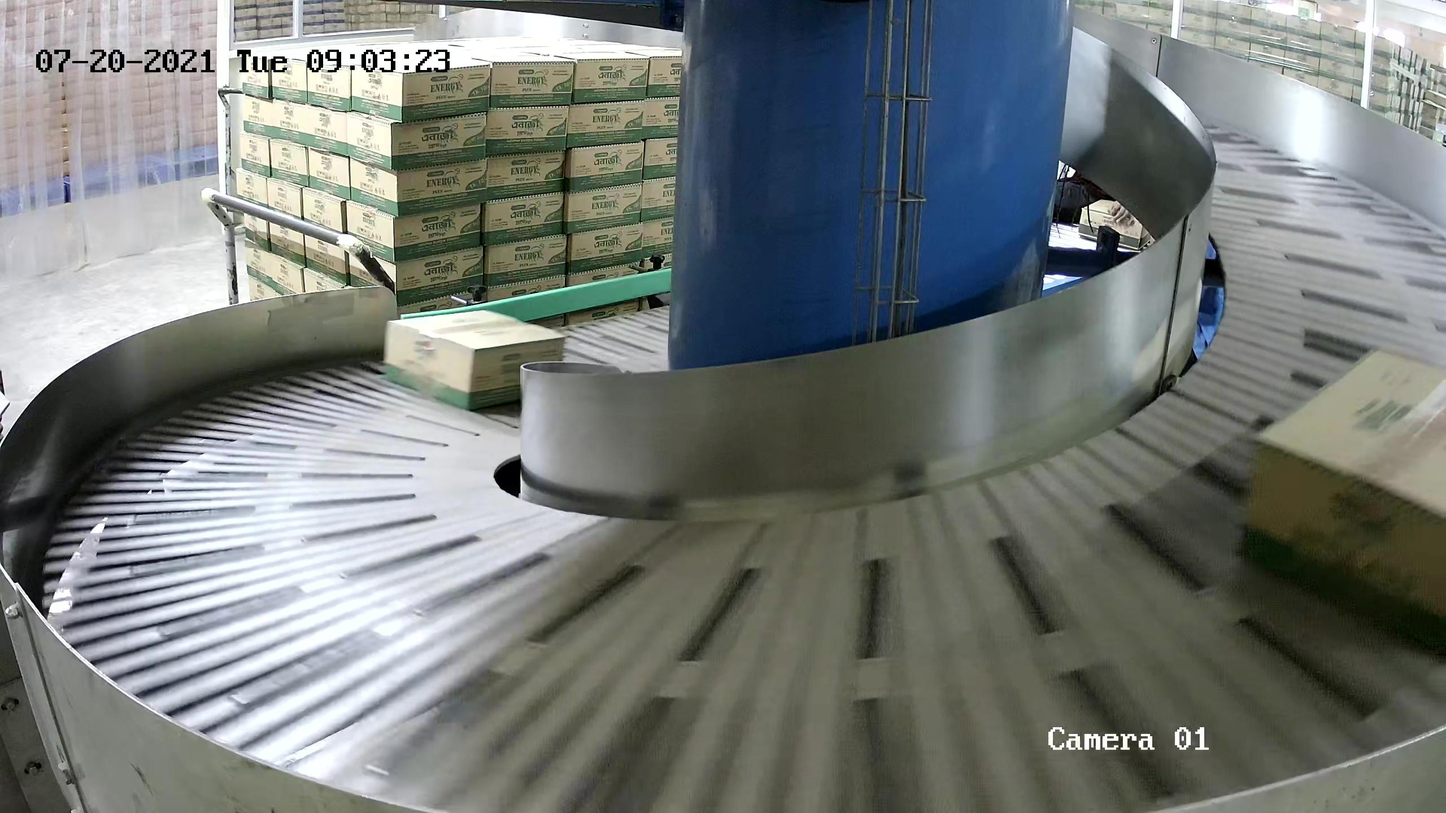Box: (1233, 347, 1446, 667), (384, 308, 565, 411)
